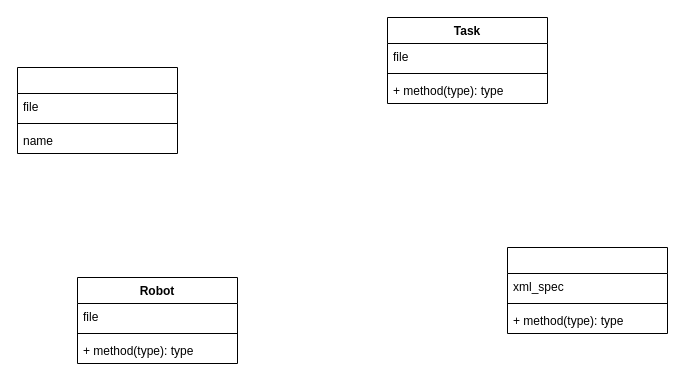
The diagram is 685 pixels wide and 384 high, and some of its shapes have lost their labels. Each missing label, with the box of its shape:
MeshObject: (16, 66, 178, 154)
MujocoGymEnv: (506, 246, 668, 334)
